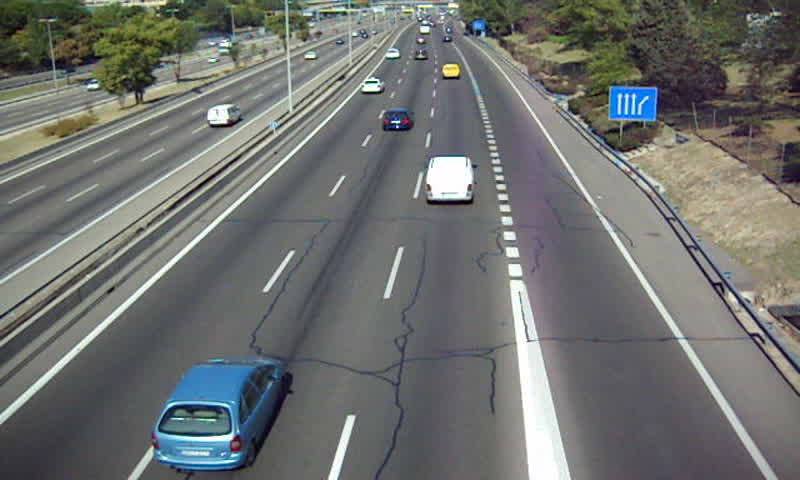car: (151, 357, 286, 467), (381, 110, 413, 131), (362, 78, 384, 94), (383, 47, 400, 60), (413, 48, 428, 62)
van: (426, 156, 474, 203), (441, 64, 460, 80)
